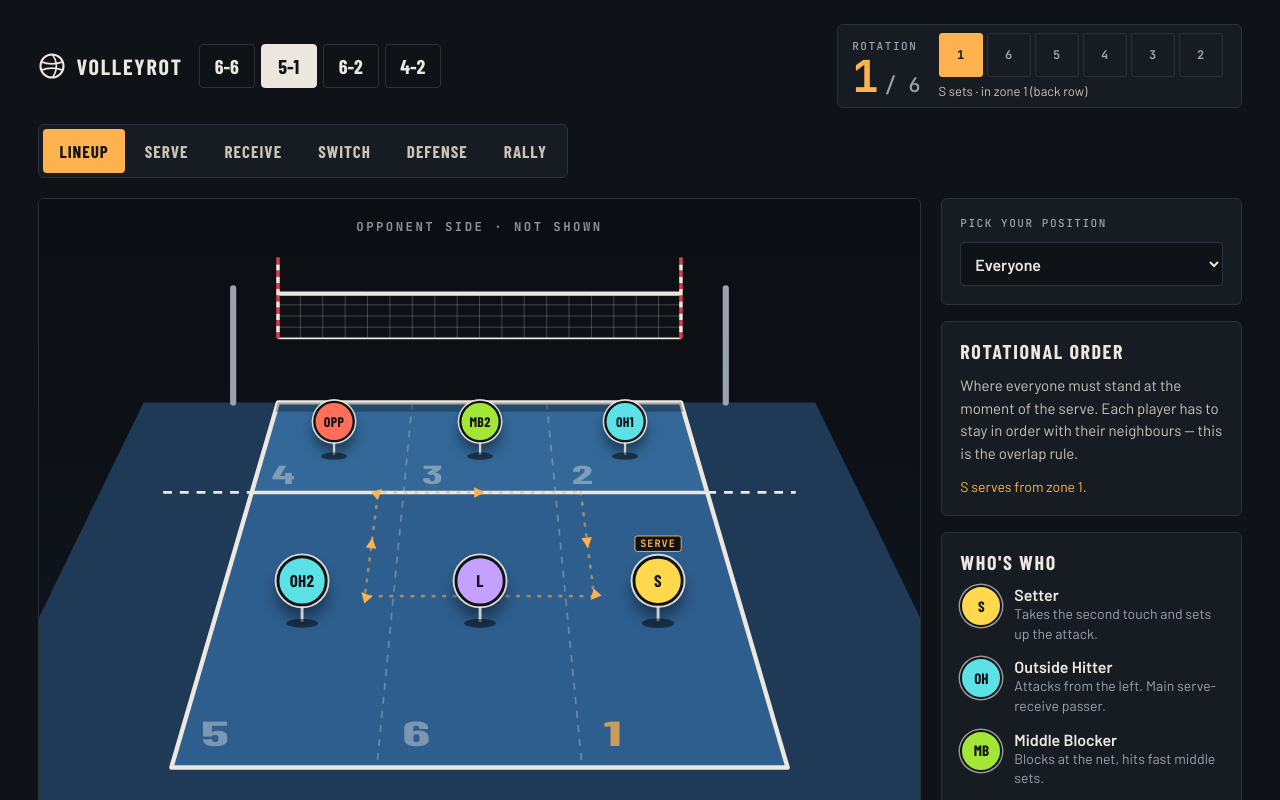
Test: pick your position › following a player shows their job and path, and highlights their token
This screenshot has width=1280, height=800.
Select "OH1 – Outside Hitter" in the dropdown named "Follow a player" at [1091, 264], box [960,242,1223,286]
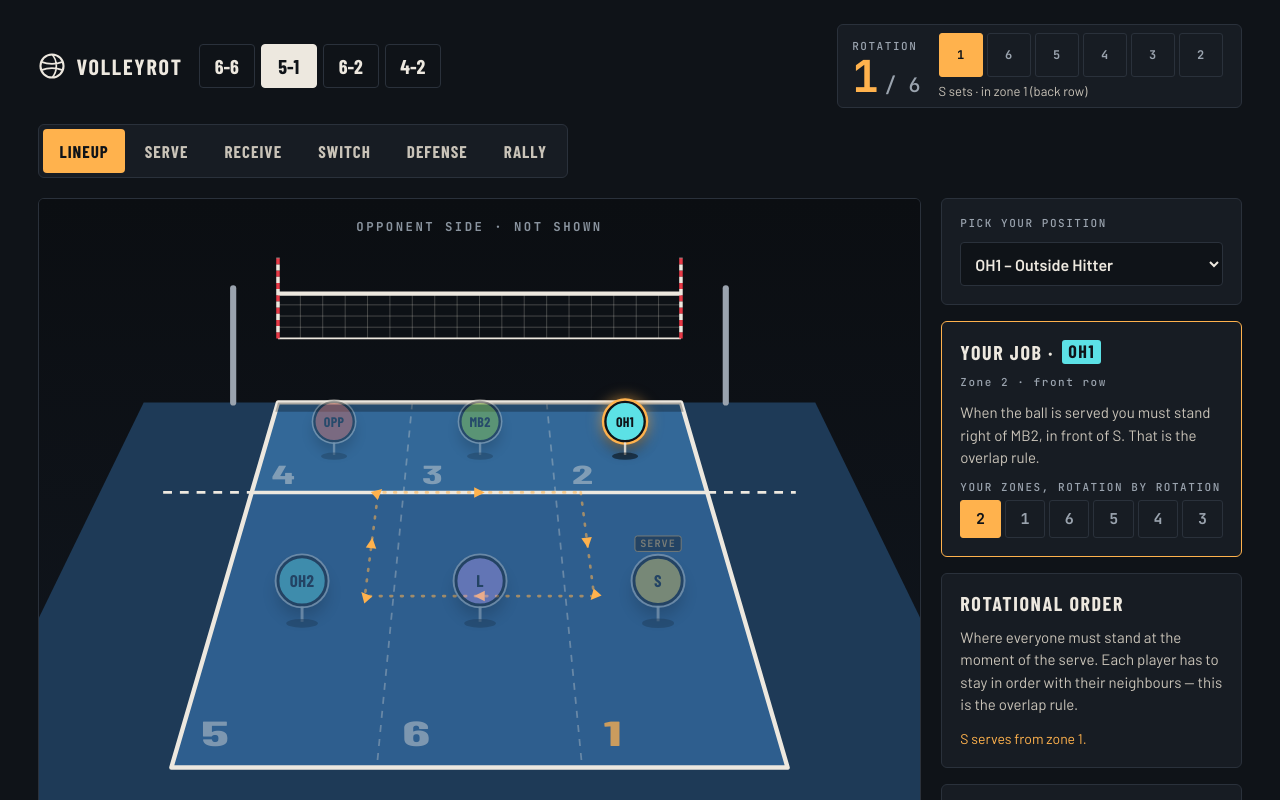
Result: the text "OH1" is shown at [1062,340,1101,364]
Result: the text "Zone 2 · front row" is shown at [960,375,1107,389]
Result: the list items read "2", "1", "6", "5", "4", "3", in this order at [960,500,1001,538]; [1005,500,1045,538]; [1049,500,1090,538]; [1094,500,1134,538]; [1138,500,1178,538]; [1182,500,1223,538]
